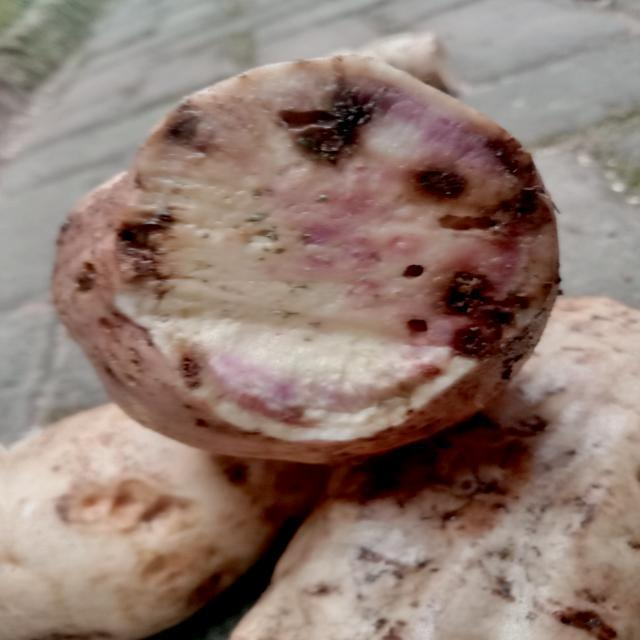Sick Sweet Potato_Tuber Rot: (53, 55, 558, 462)
